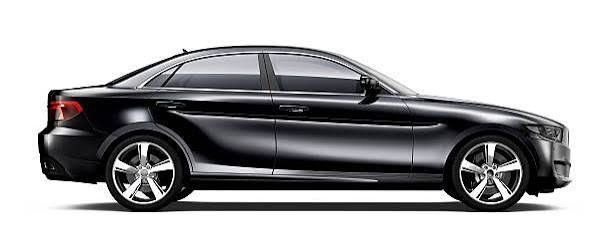car: (40, 48, 571, 211)
